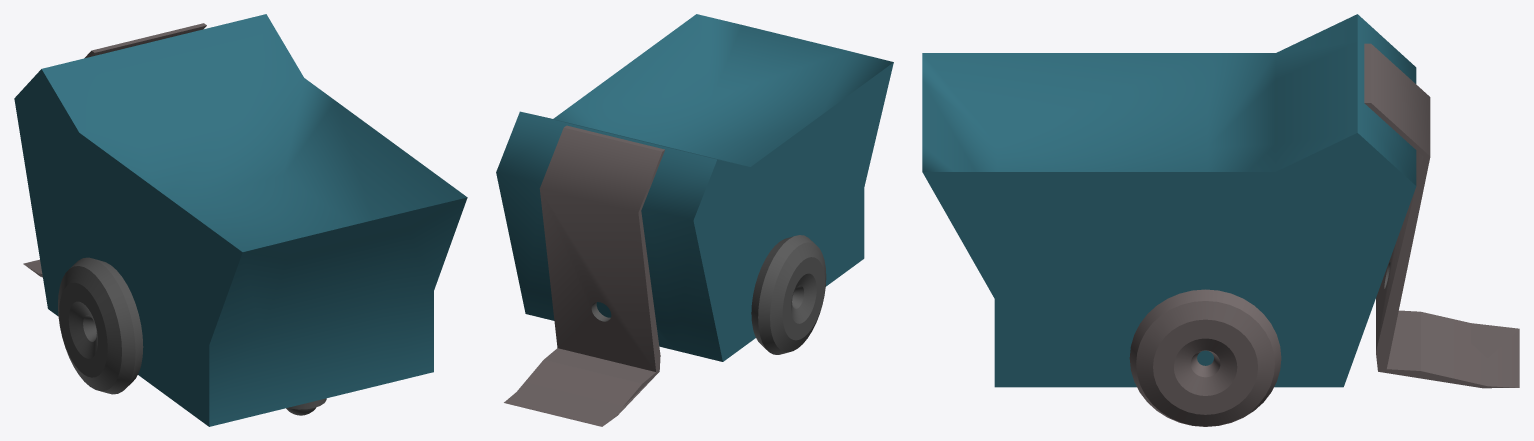
The model's file is ira-bot-2.fbx.
3 renders of one model, left to right at view 1: azimuth 30°, elevation 25°; view 2: azimuth 150°, elevation 25°; view 3: azimuth 270°, elevation 25°, orthographic. The views are drawn at different scales.
Visible parts, largest first — view 1: pCube5, pTorus2, pCube4; view 2: pCube5, pCube4, pTorus2; view 3: pCube5, pCube4, pTorus1.
Part boxes in pixels (x1,y1,x2,y2): pCube5: [14, 14, 467, 426]; pTorus2: [58, 257, 143, 394]; pCube4: [23, 23, 206, 277]; pCube5: [496, 14, 893, 361]; pCube4: [504, 125, 664, 426]; pTorus2: [751, 235, 826, 354]; pCube5: [922, 14, 1416, 387]; pCube4: [1364, 43, 1519, 388]; pTorus1: [1129, 289, 1281, 426].
Size of the model in its own units: 2.5 by 2.26 by 4.25.
